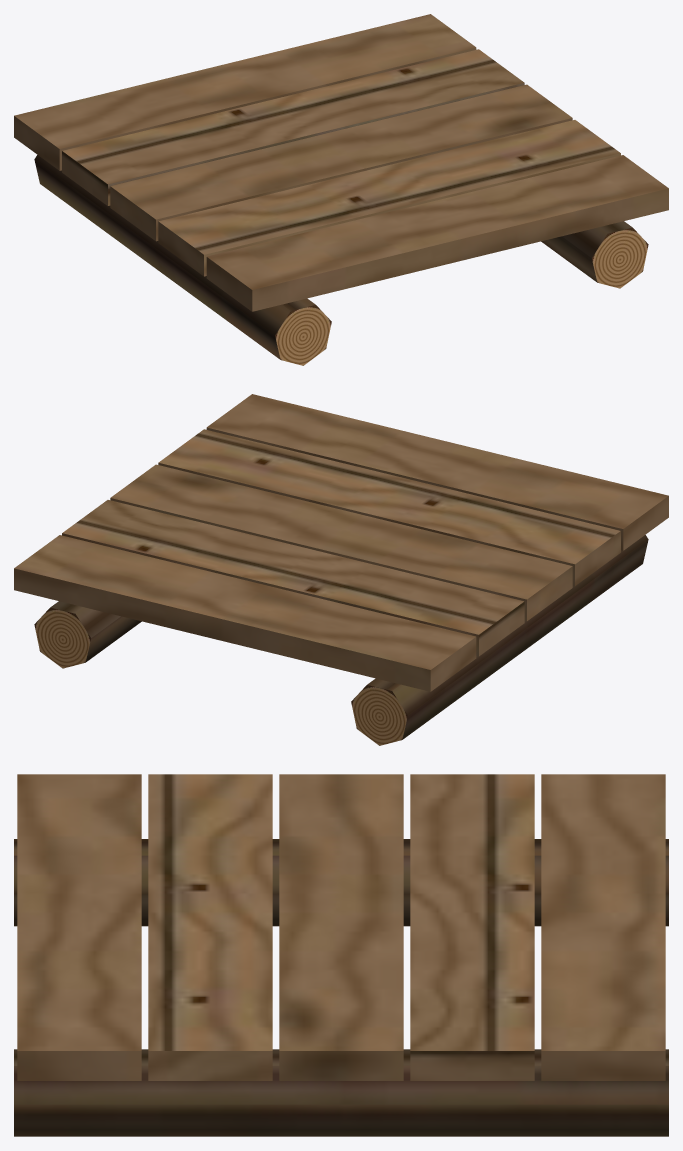
Rendered from floor.glb.
The picture shows the model from 3 angles, top to bottom: view 1: azimuth 30°, elevation 25°; view 2: azimuth 150°, elevation 25°; view 3: azimuth 270°, elevation 25°; orthographic projection. The views are drawn at different scales.
Visible parts, largest first — view 1: floor; view 2: floor; view 3: floor.
Boxes of the visible parts, x1,y1,x2,y2 form: floor: (14, 14, 668, 365); floor: (14, 394, 668, 745); floor: (14, 774, 668, 1136).
Size of the model in its own units: 1 by 0.2 by 1.
1 material, 1 textured.
